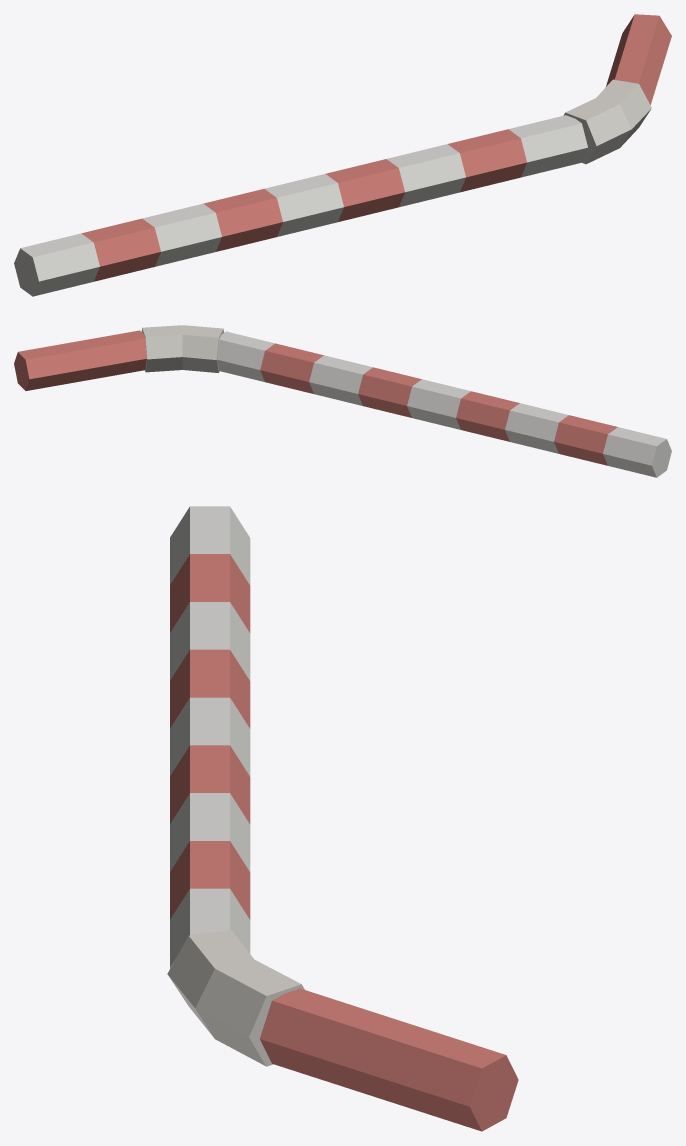
The model's file is litter_straw.glb.
The picture shows the model from 3 angles, top to bottom: view 1: azimuth 30°, elevation 25°; view 2: azimuth 150°, elevation 25°; view 3: azimuth 270°, elevation 25°; orthographic projection. The views are drawn at different scales.
Visible parts, largest first — view 1: litter_straw; view 2: litter_straw; view 3: litter_straw.
Boxes of the visible parts, left/top/right/bottom form: litter_straw: left=14, top=14, right=671, bottom=296; litter_straw: left=14, top=325, right=671, bottom=477; litter_straw: left=167, top=506, right=518, bottom=1131.
Bounding box in the file's own units: 0.2179 × 0.0126 × 0.0569.
